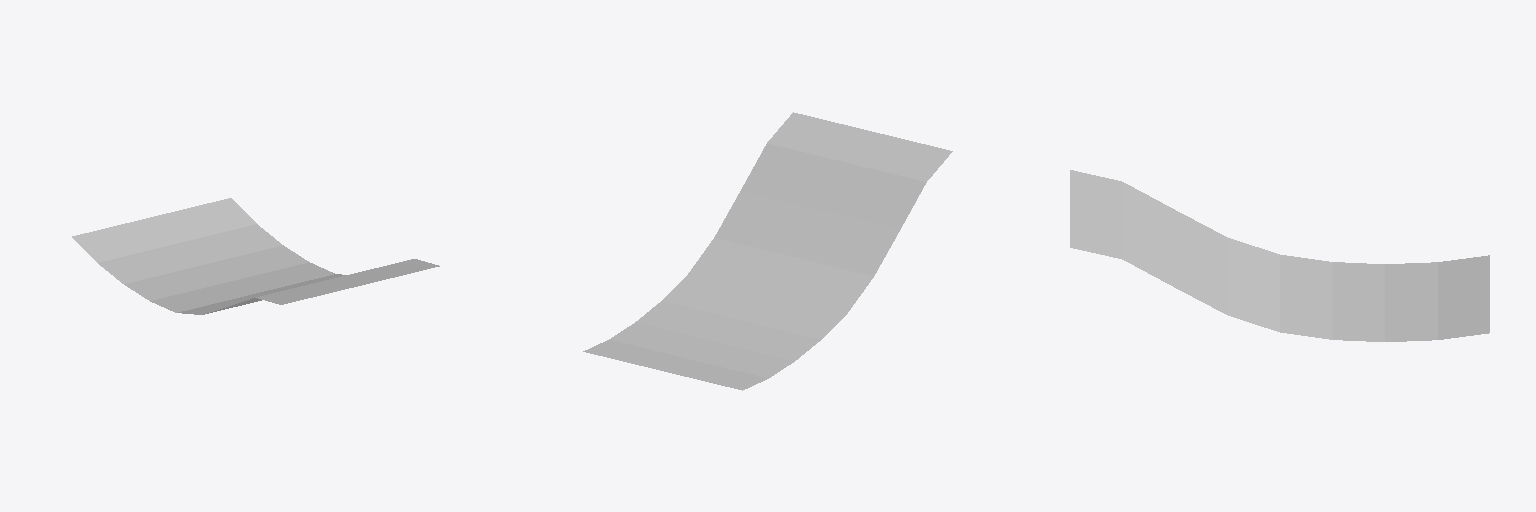
The model's file is bill.obj.
3 renders of one model, left to right at view 1: azimuth 30°, elevation 25°; view 2: azimuth 150°, elevation 25°; view 3: azimuth 270°, elevation 25°, orthographic.
Visible parts, largest first — view 1: Plane; view 2: Plane; view 3: Plane.
Part boxes in pixels (left/top/right/bottom): Plane: left=72, top=198, right=439, bottom=314; Plane: left=583, top=112, right=952, bottom=390; Plane: left=1070, top=170, right=1489, bottom=341.
Bounding box in the file's own units: 0.2439 × 0.1379 × 0.5552.